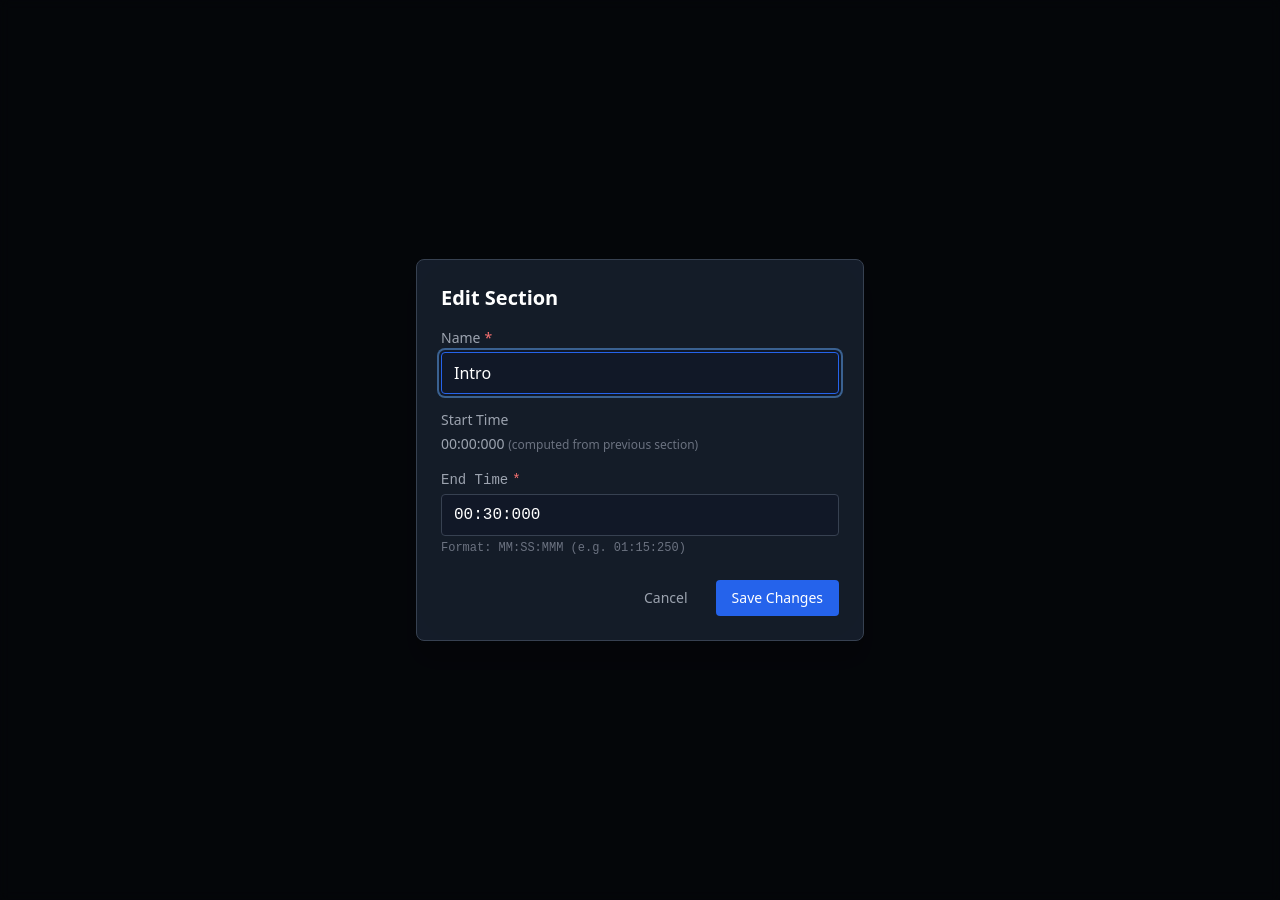
EditSectionModal › shows error for invalid end time format
In the field labelled "End Time*": [640, 515] box [441,494,839,536], type "bad"
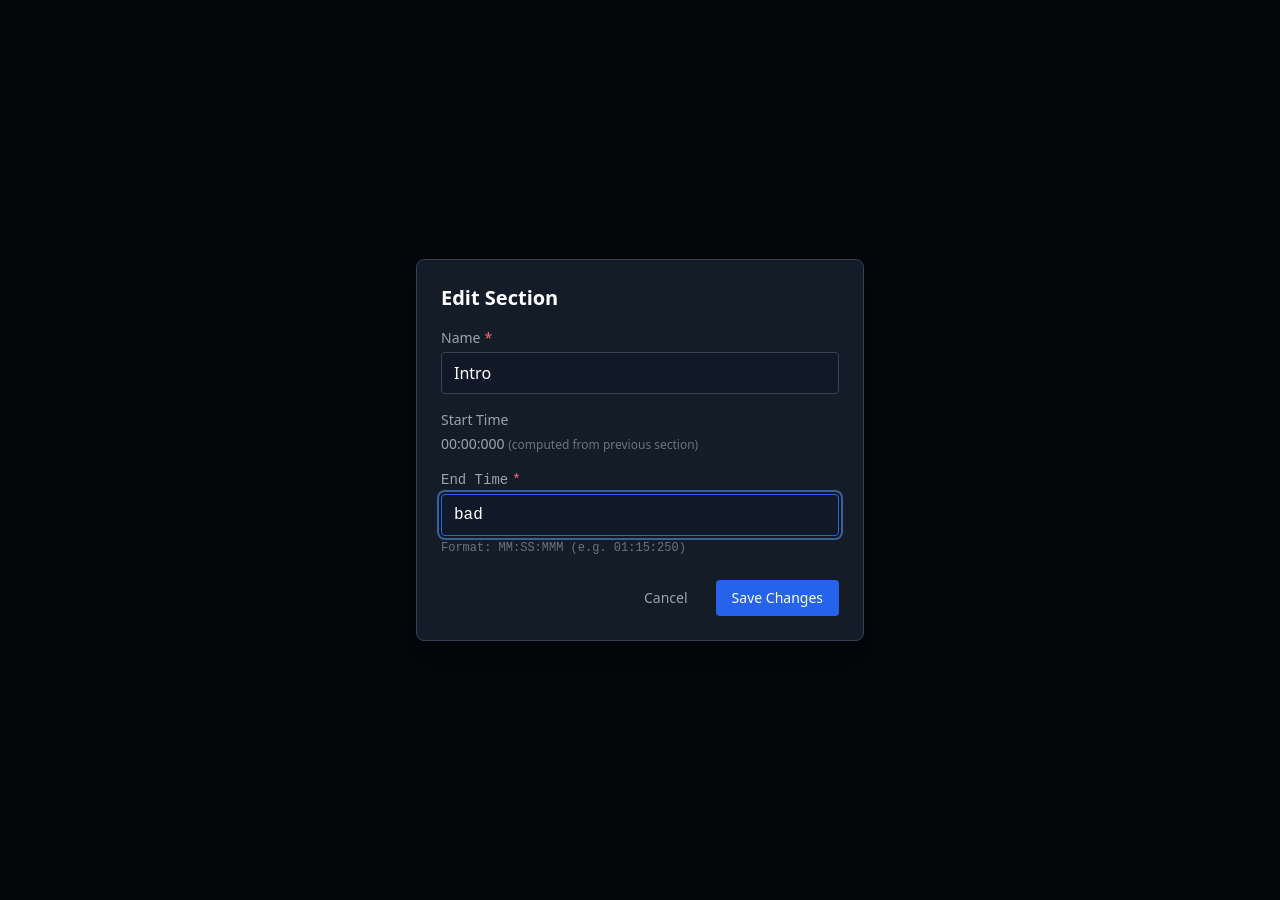
Click the button "Save Changes": [777, 598] box [716,580,839,616]
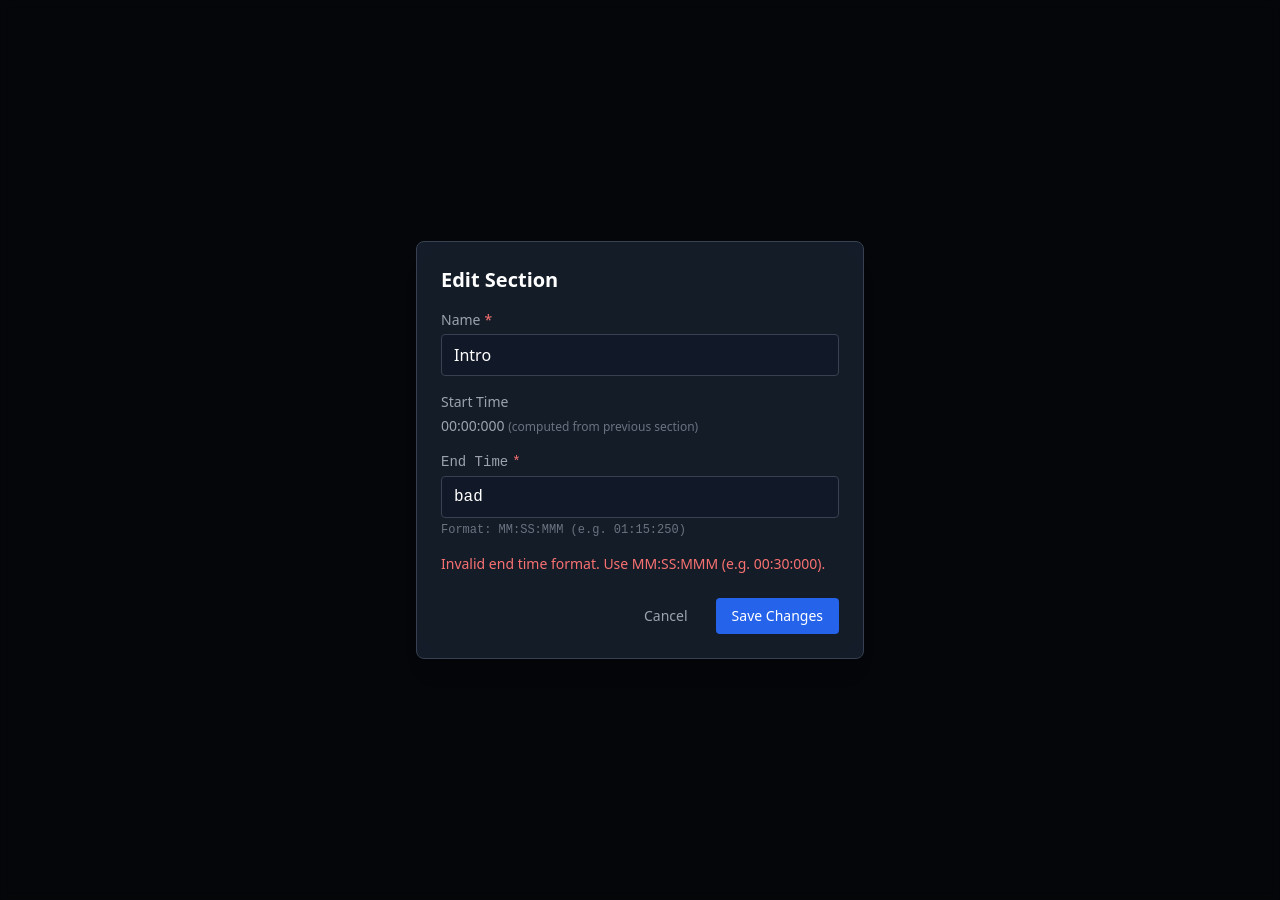
expect the message shows "Invalid end time format": met, box [441,554,825,573]
